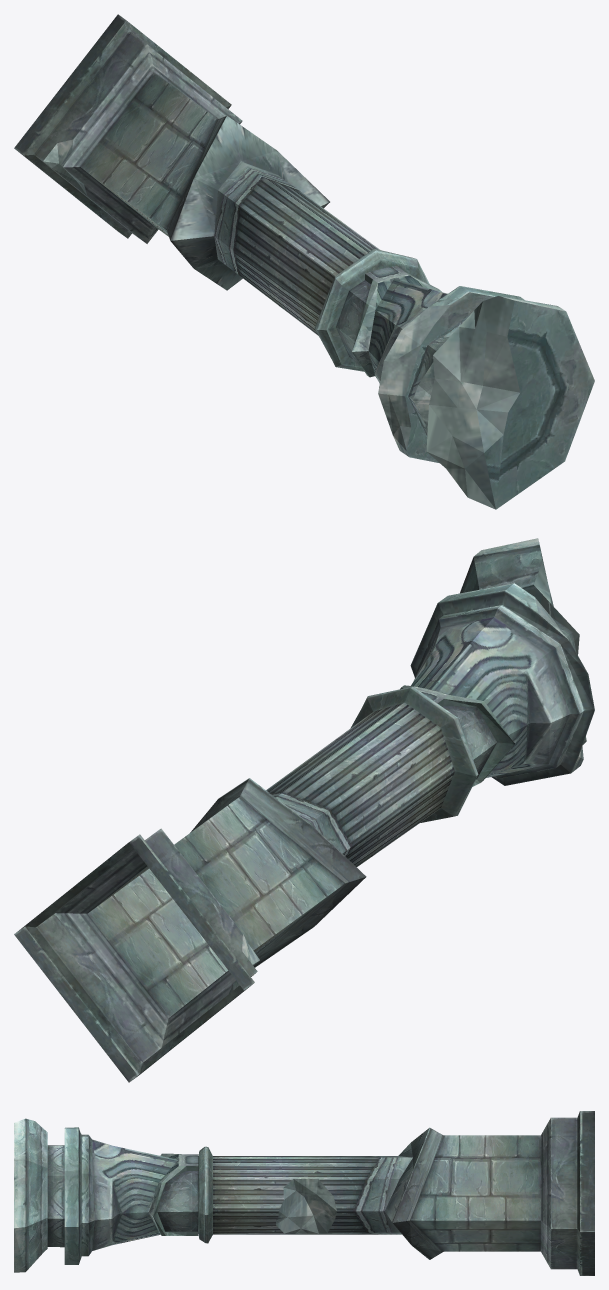
File: zhanchang_fuben_272_xilazhu_0.obj
The picture shows the model from 3 angles, top to bottom: view 1: azimuth 30°, elevation 25°; view 2: azimuth 150°, elevation 25°; view 3: azimuth 270°, elevation 25°; orthographic projection. The views are drawn at different scales.
Visible parts, largest first — view 1: zhanchang_fuben_272_xilazhu_0; view 2: zhanchang_fuben_272_xilazhu_0; view 3: zhanchang_fuben_272_xilazhu_0.
Boxes of the visible parts, x1,y1,x2,y2 form: zhanchang_fuben_272_xilazhu_0: (14, 14, 594, 509); zhanchang_fuben_272_xilazhu_0: (14, 538, 594, 1082); zhanchang_fuben_272_xilazhu_0: (14, 1111, 594, 1275).
Bounding box in the file's own units: 67.75 × 67.68 × 216.
2 materials, 2 textured.
